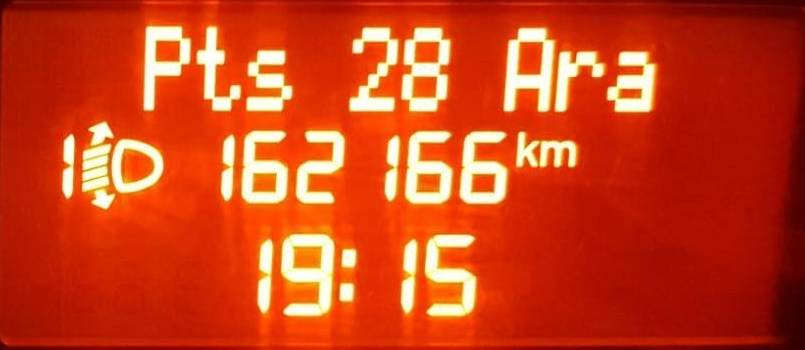1: (396, 231, 421, 321), (250, 230, 275, 315), (55, 124, 79, 197), (217, 129, 235, 206), (383, 126, 400, 205)
2: (350, 13, 399, 116), (297, 123, 342, 207)
5: (425, 227, 477, 322)
6: (405, 123, 455, 204), (238, 125, 289, 204), (460, 124, 507, 204)
8: (398, 21, 449, 114)
9: (279, 230, 334, 322)
X: (499, 23, 556, 114), (139, 18, 186, 113), (194, 19, 237, 115), (245, 42, 294, 114), (556, 43, 605, 114), (611, 45, 653, 115), (334, 237, 361, 305), (538, 136, 578, 169), (514, 125, 540, 171)
